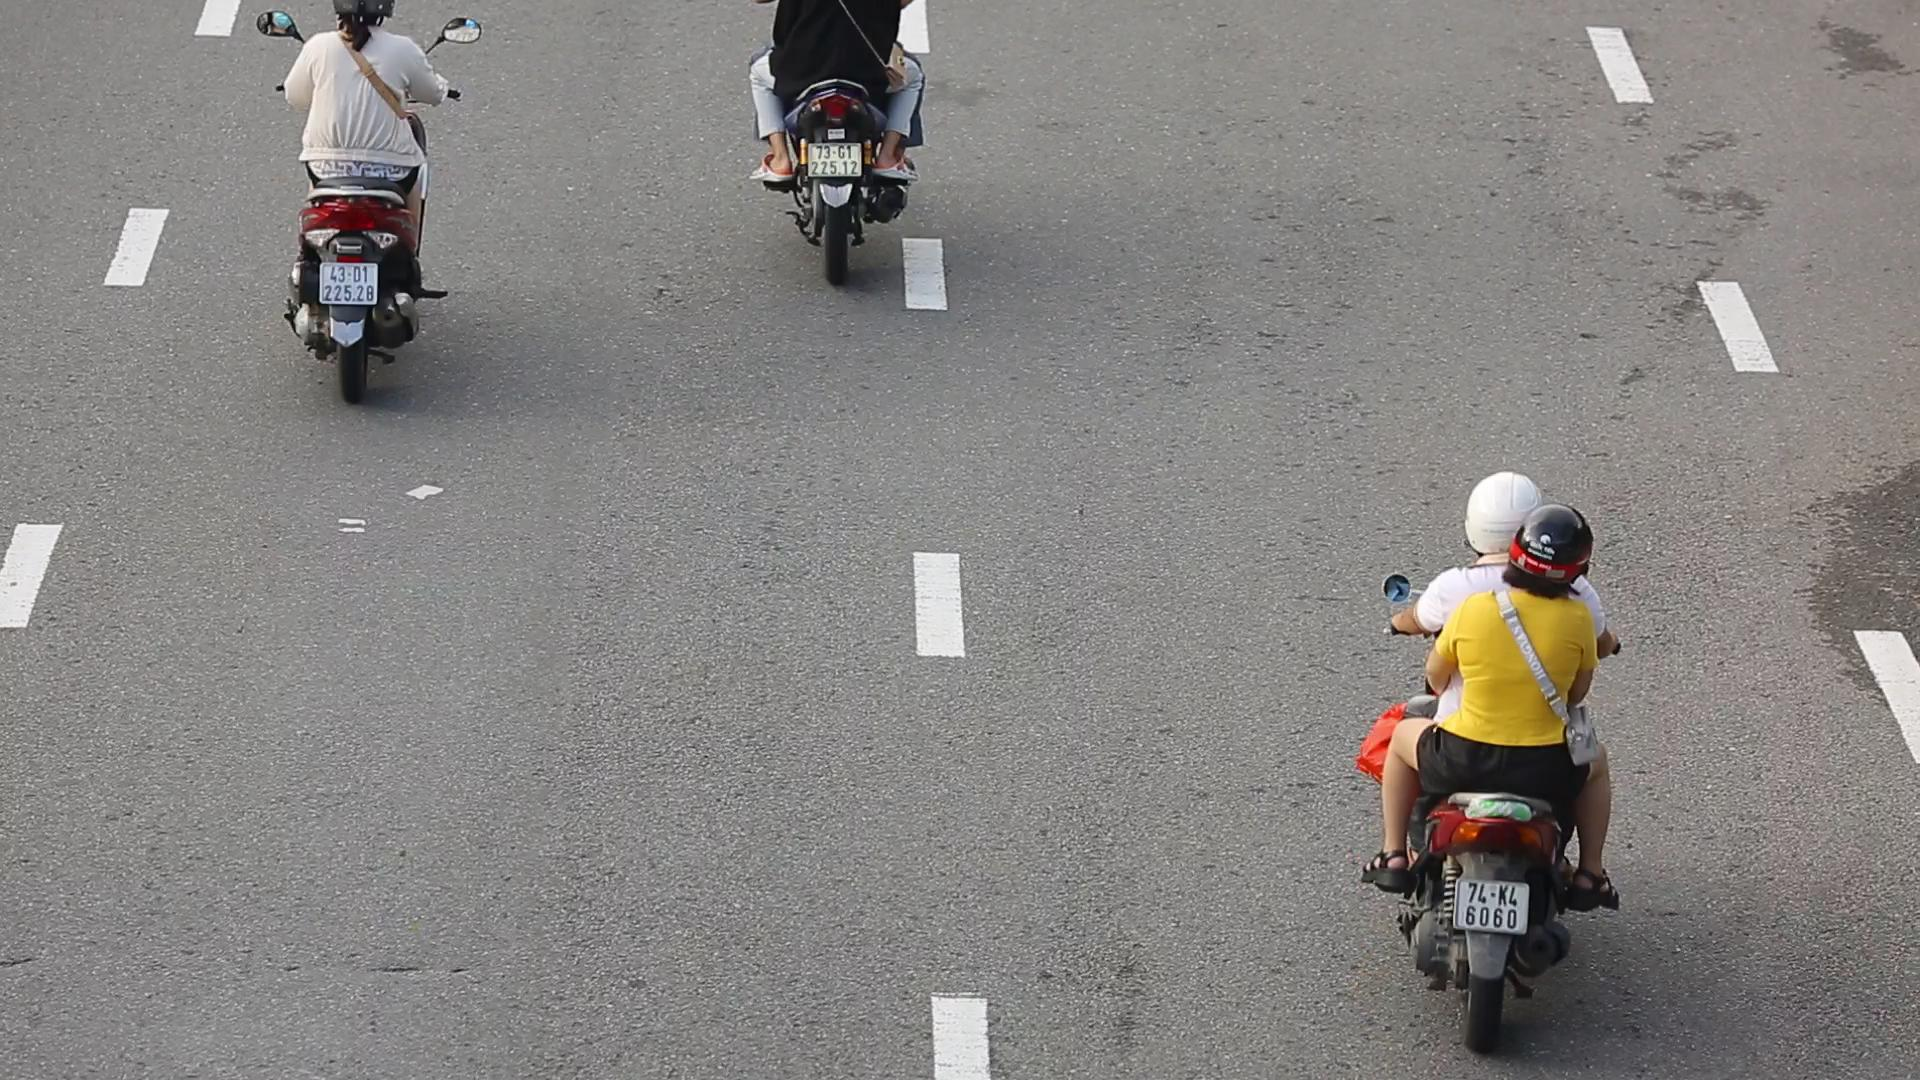motobike: (1358, 455, 1634, 1054)
